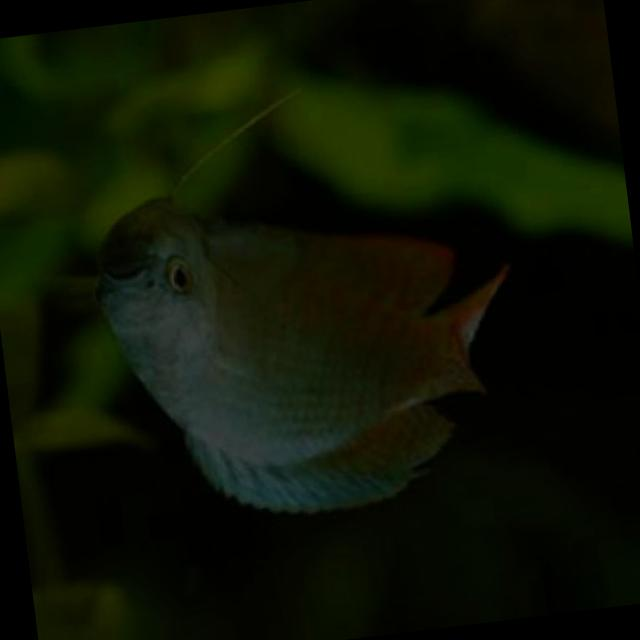Gourami: (81, 152, 522, 538)
